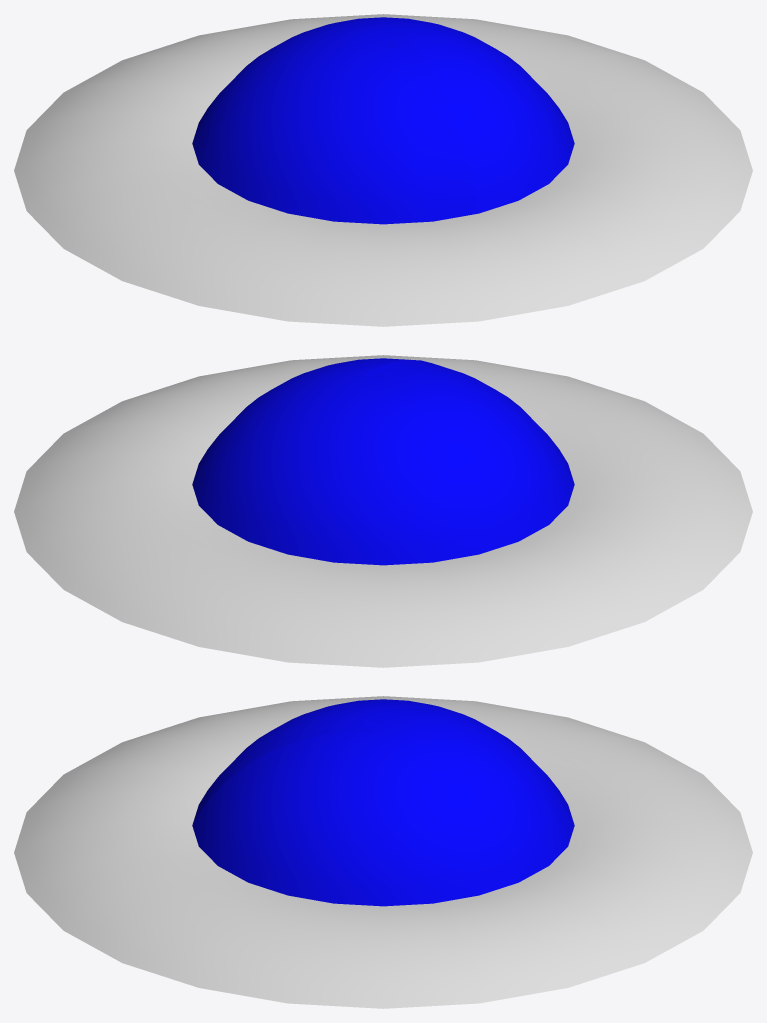
The picture shows the model from 3 angles, top to bottom: view 1: azimuth 30°, elevation 25°; view 2: azimuth 150°, elevation 25°; view 3: azimuth 270°, elevation 25°; orthographic projection.
Visible parts, largest first — view 1: Layer0_001; view 2: Layer0_001; view 3: Layer0_001.
Boxes of the visible parts, bbox=[...] form: Layer0_001: bbox=[14, 14, 752, 326]; Layer0_001: bbox=[14, 355, 752, 667]; Layer0_001: bbox=[14, 696, 752, 1008].
Bounding box in the file's own units: 11608 × 2726 × 11608.
